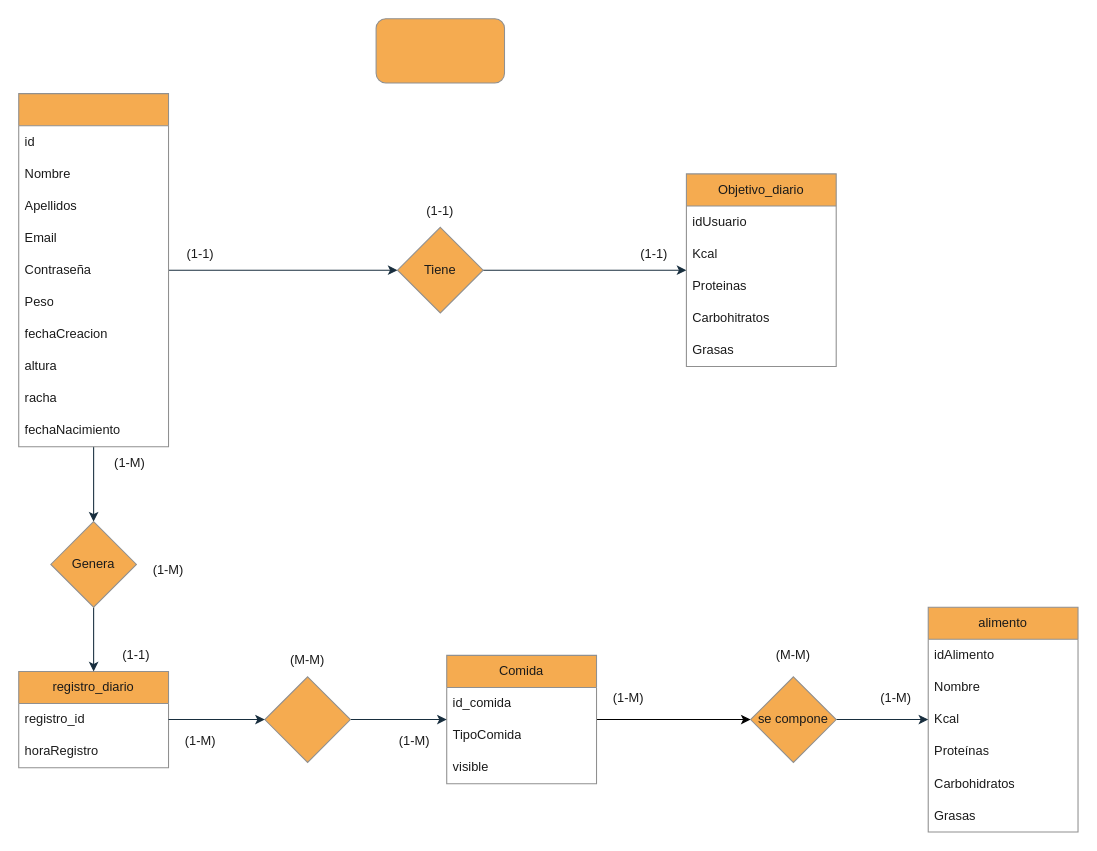
This 1097x851 diagram has some shape labels left out. The shapes that lost their labels are listed below. From the top down, each one's box as (x1, y1, x2, y2) in pixels, then its label:
(375, 18, 505, 83): Dieta
(18, 93, 169, 447): usuario
(264, 676, 350, 762): Contiene
